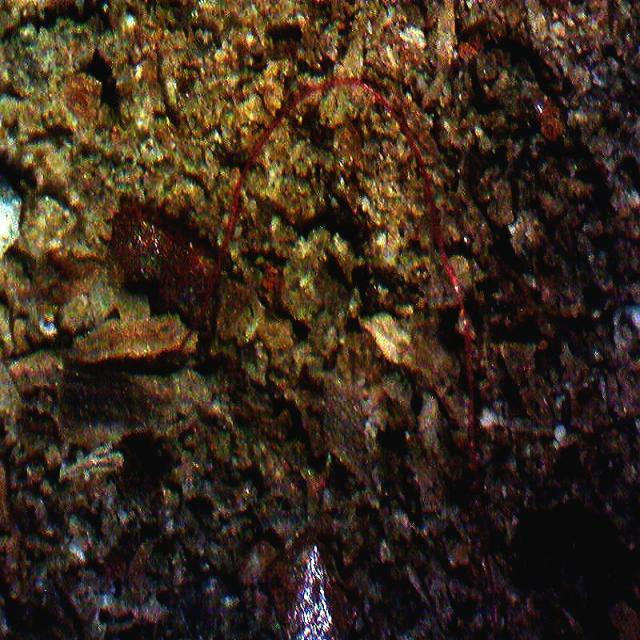microplastic: (185, 77, 497, 591)
